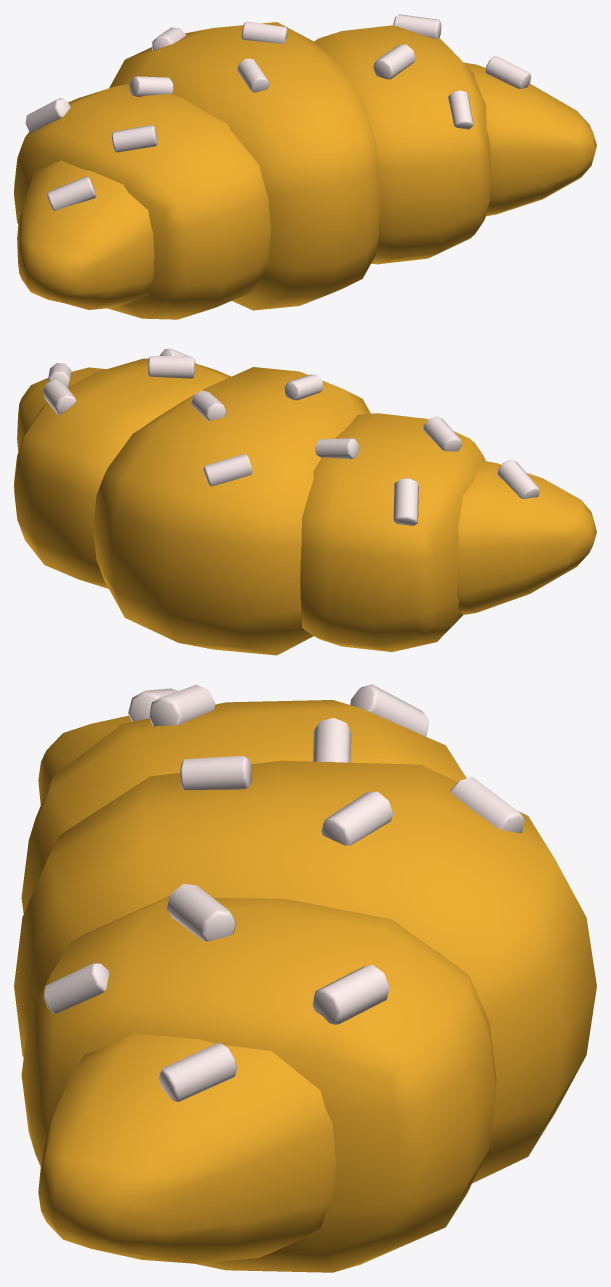
File: Croissant.fbx
3 views of the same model, one above another, from view 1: azimuth 30°, elevation 25°; view 2: azimuth 150°, elevation 25°; view 3: azimuth 270°, elevation 25° (orthographic). The views are drawn at different scales.
Parts seen in each view (by area): view 1: Croissant; view 2: Croissant; view 3: Croissant.
Part boxes in pixels (x1,y1,x2,y2): Croissant: (14, 14, 596, 319); Croissant: (14, 348, 596, 655); Croissant: (14, 684, 596, 1272).
Size of the model in its own units: 32.67 by 13.05 by 17.23.
